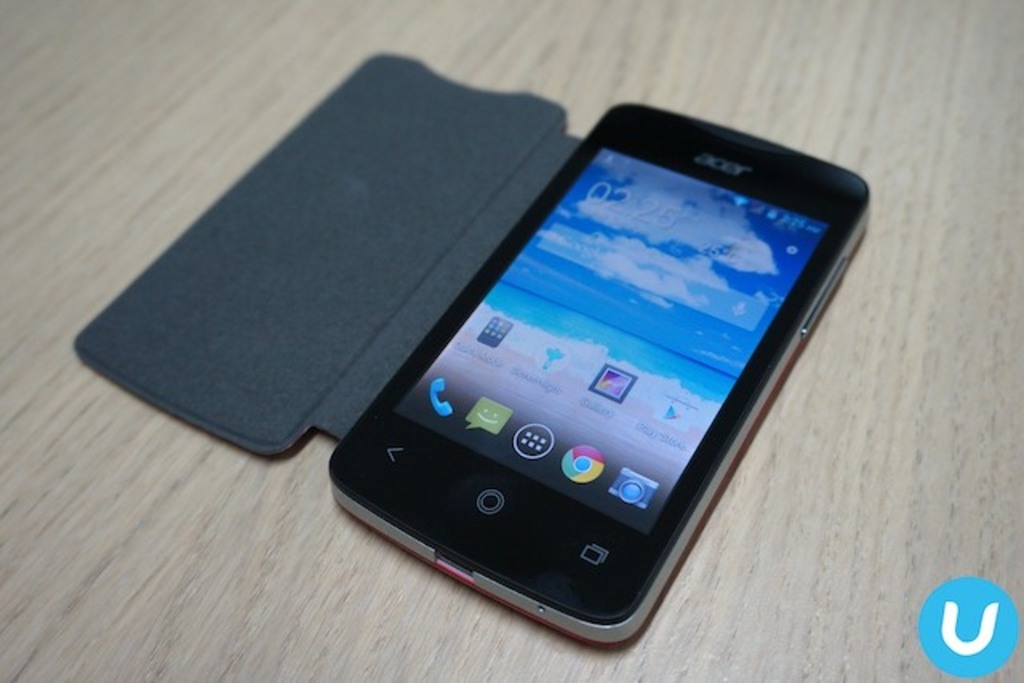mobile phone: (331, 100, 875, 643)
